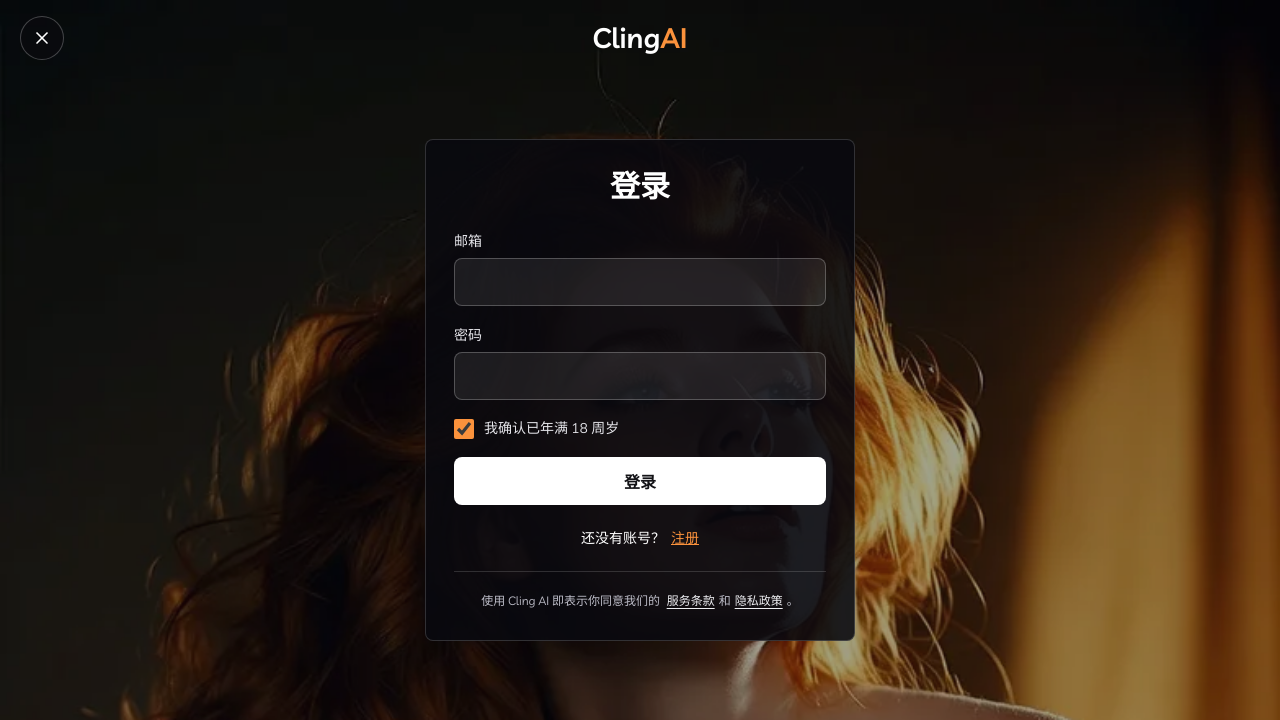
Go 自有账号入口 › 登录成功后的 /me 返回 401 时拒绝提交并显示错误
The image size is (1280, 720).
Step 1. Type "test@example.com" into the field labelled "邮箱" → coordinates (640, 282), box [454,258,826,306]
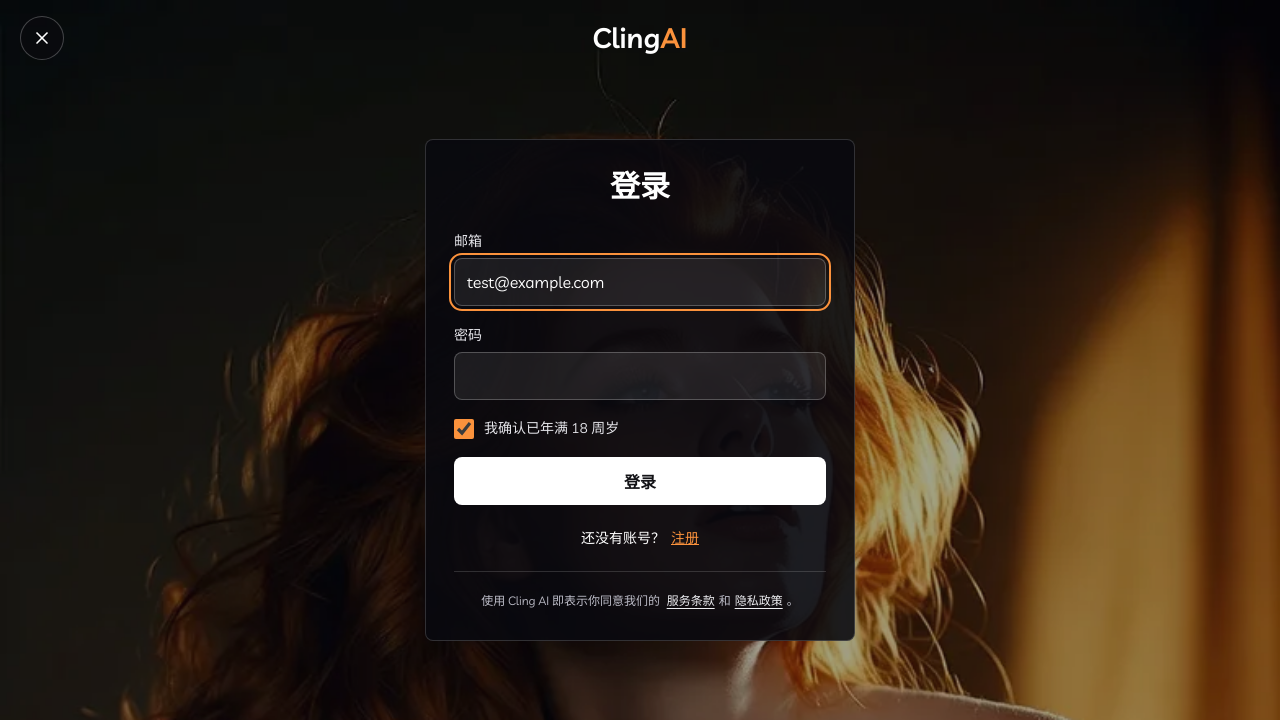
Step 2. Type "password123" into the password field labelled "密码" → coordinates (640, 376), box [454,352,826,400]
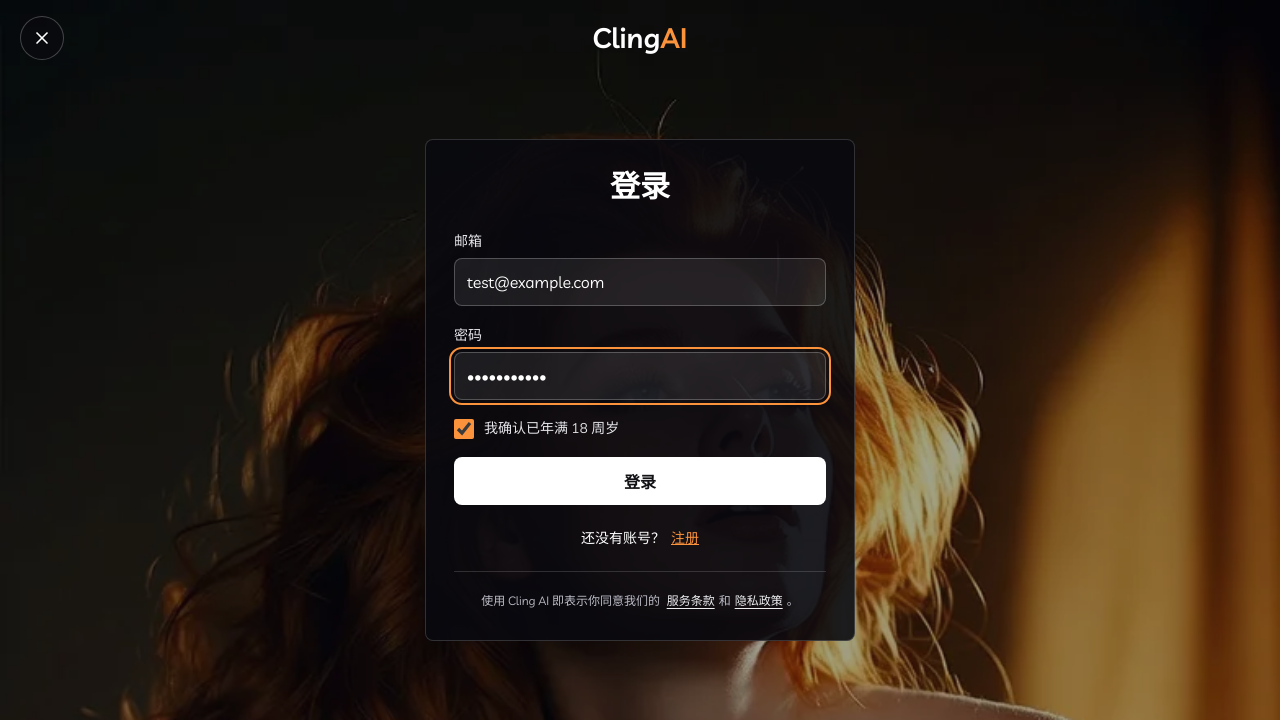
Step 3. Click the button "登录" → coordinates (640, 481), box [454,457,826,505]
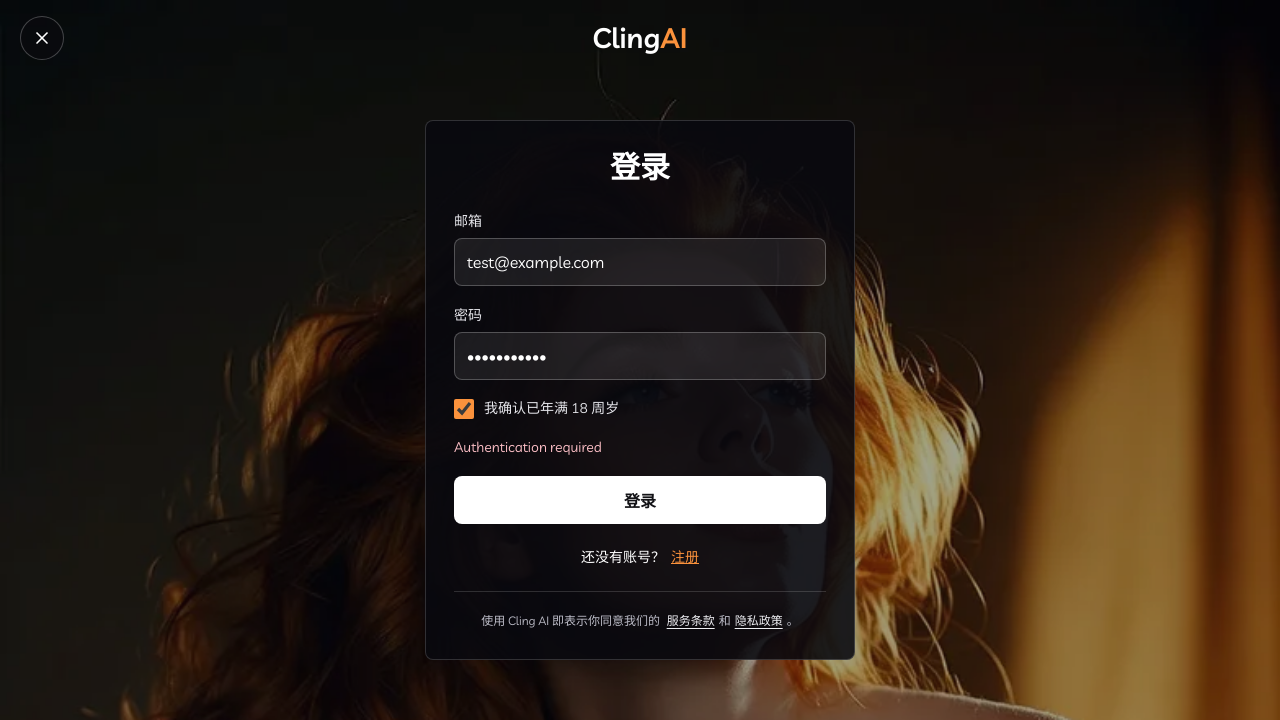
Expected: the message reads "Authentication required", [454,438,602,456]
